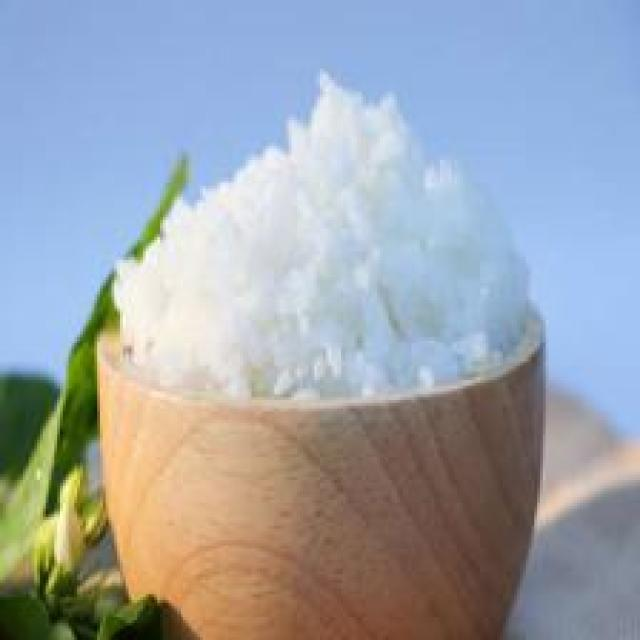Wet Waste: (106, 70, 542, 405)
